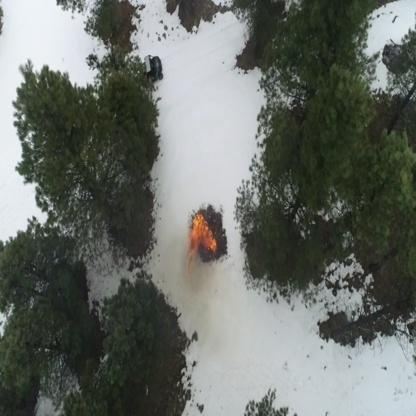Fire: (185, 212, 217, 274)
